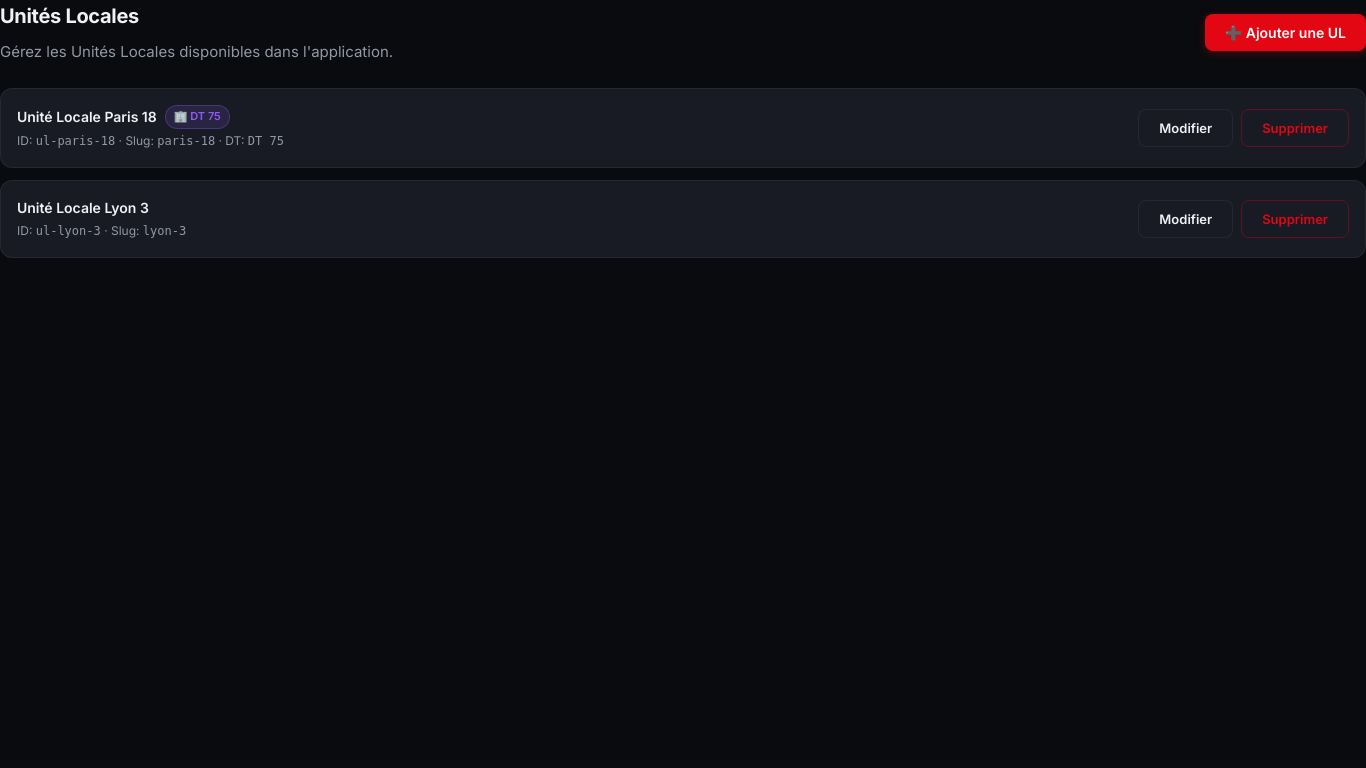
Test: ULsTab › crée une nouvelle UL (happy path)
Check: the text "Unité Locale Paris 18" is shown, box [17,106,157,128]
Click the button "➕ Ajouter une UL": (1285, 32) [1205,14,1365,50]
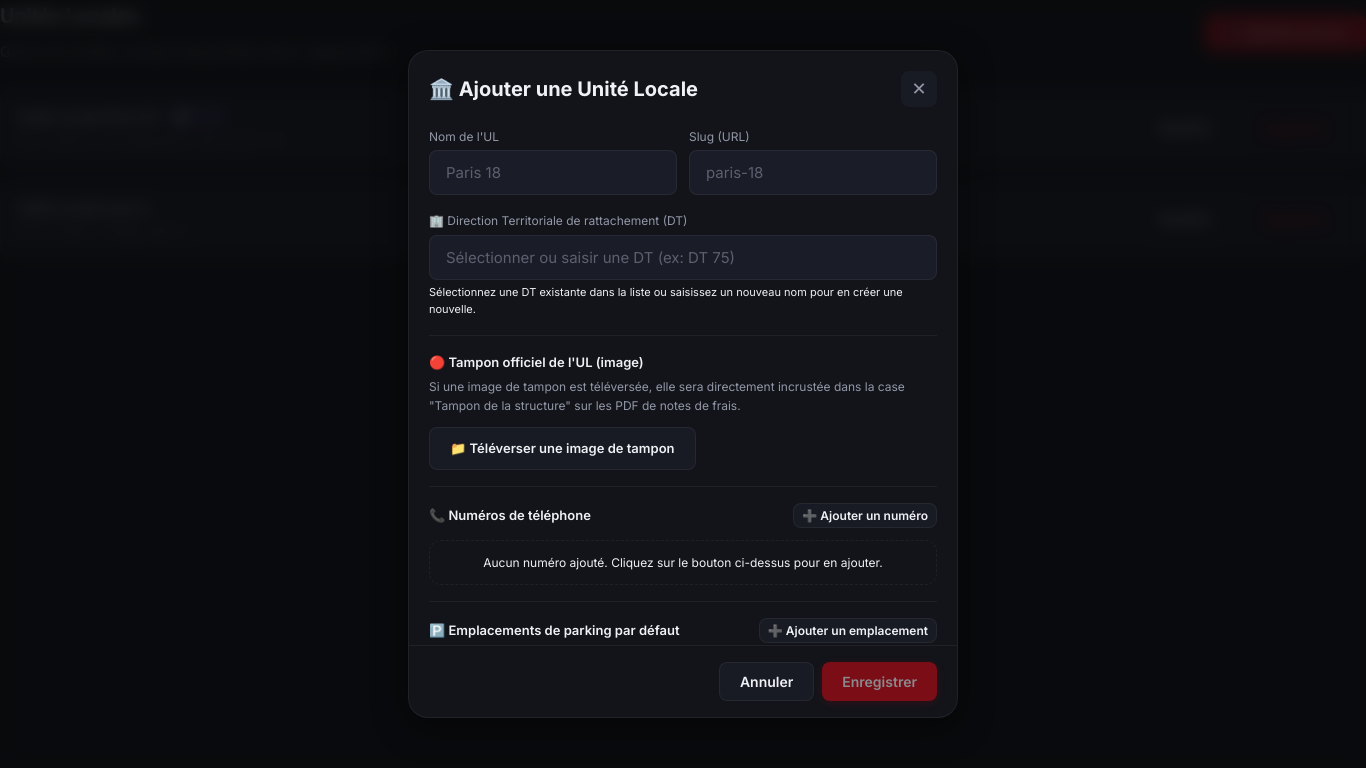
In the field with placeholder "Paris 18": (553, 173) [429,150,677,195], type "Marseille 1"
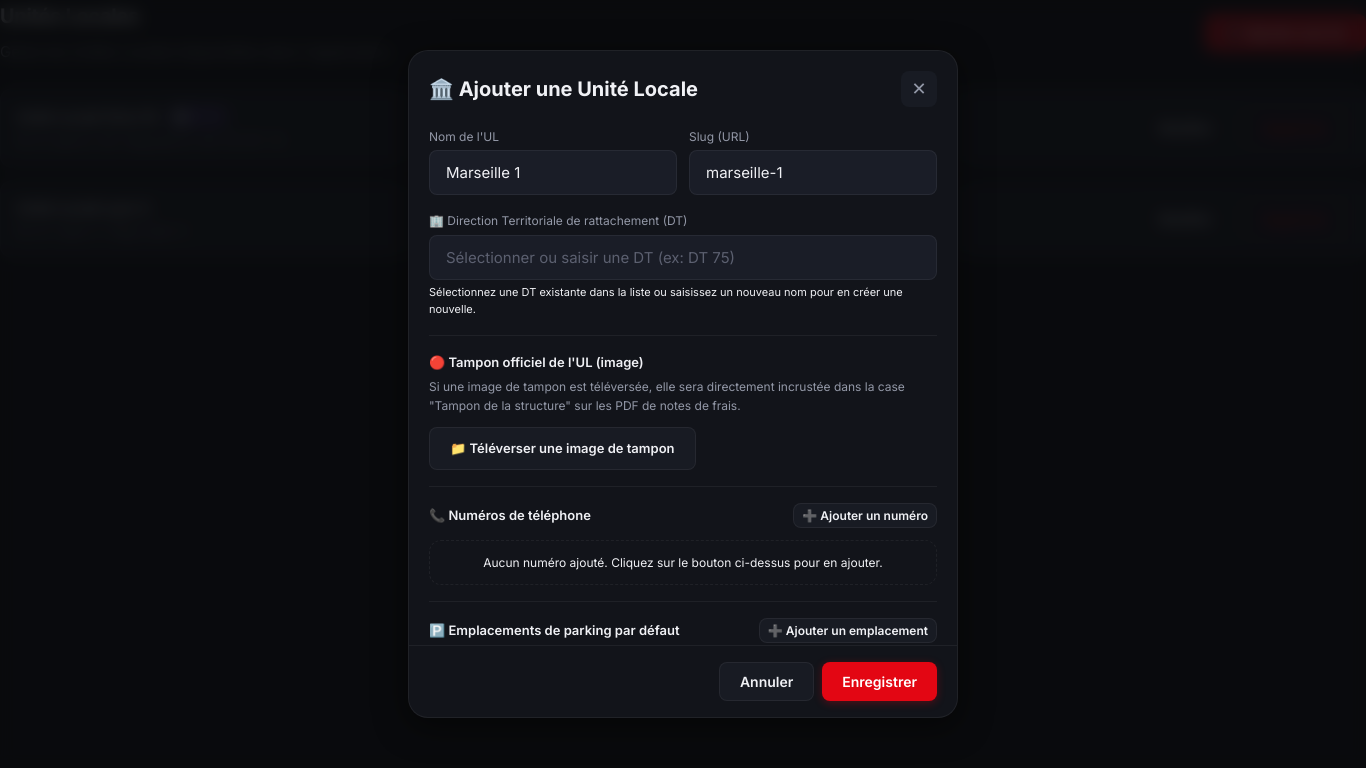
Click the button "Enregistrer": (880, 681) [822,662,937,701]
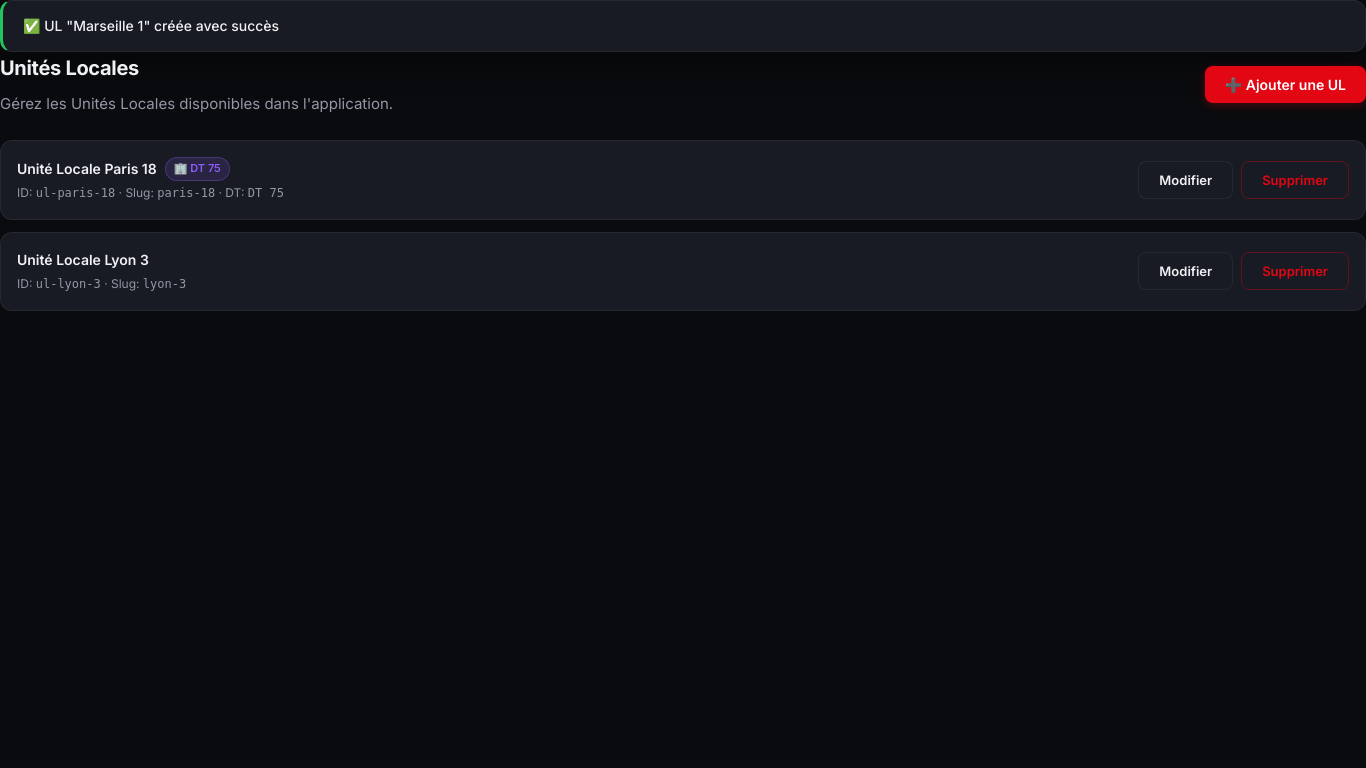
Check: the text "✅ UL \"Marseille 1\" créée avec succès" is shown, box [0,0,1365,52]
